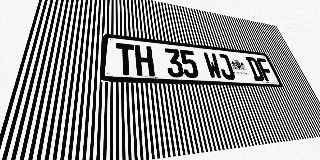3: (164, 48, 185, 78)
5: (179, 49, 200, 78)
D: (245, 56, 265, 81)
F: (255, 58, 276, 82)
H: (135, 45, 155, 76)
J: (215, 53, 236, 80)
T: (116, 43, 136, 76)
W: (203, 52, 223, 79)
